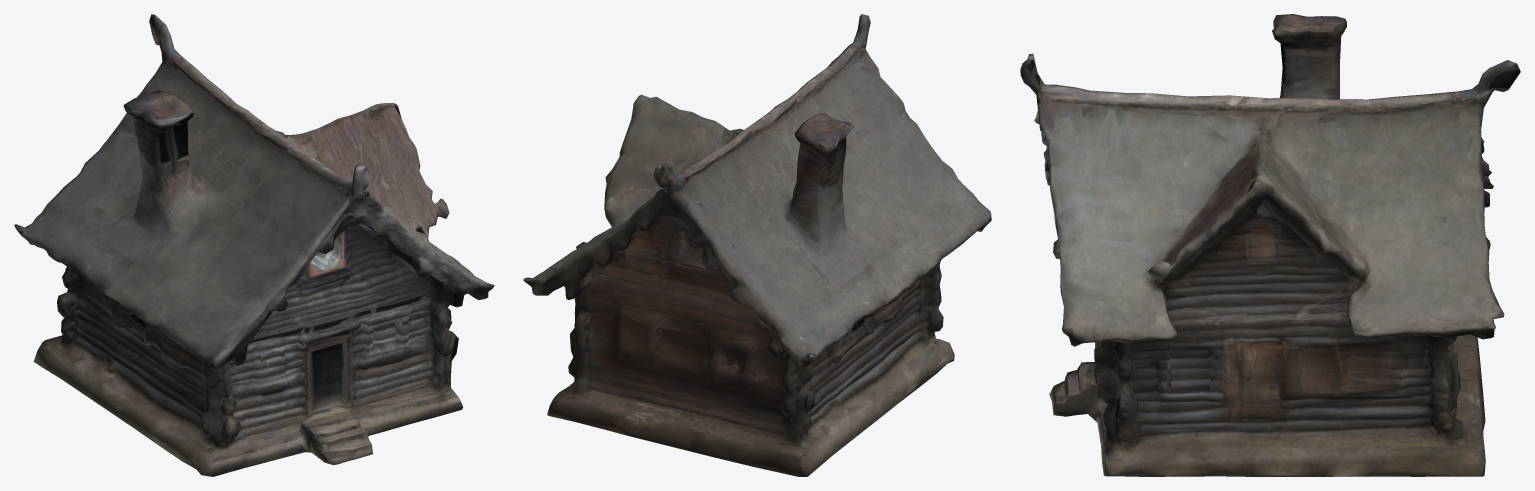
File: Old_Russian_izba.glb
3 views of the same model, side by side, from view 1: azimuth 30°, elevation 25°; view 2: azimuth 150°, elevation 25°; view 3: azimuth 270°, elevation 25° (orthographic). The views are drawn at different scales.
Visible parts, largest first — view 1: Mesh_0; view 2: Mesh_0; view 3: Mesh_0.
Part boxes in pixels (box(x1,y1,x2,y2)): Mesh_0: box(14, 14, 494, 476); Mesh_0: box(523, 14, 991, 476); Mesh_0: box(1020, 14, 1520, 476).
Size of the model in its own units: 1.58 by 1.56 by 2.01.
1 material, 1 textured.
